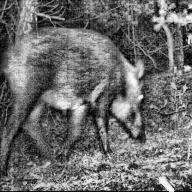boar: (0, 14, 159, 160)
